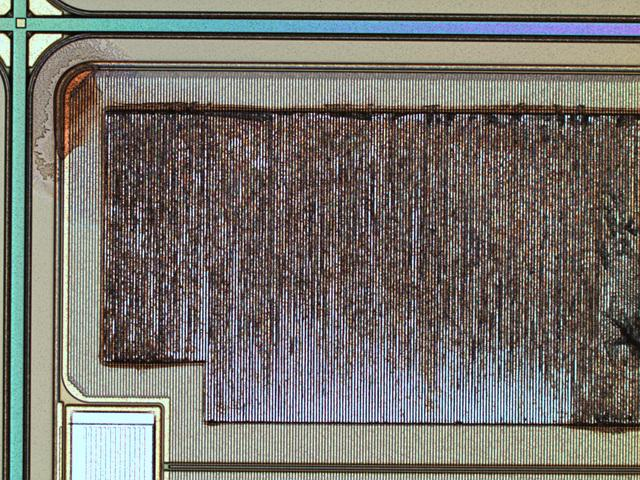SEZ BURNT: (26, 31, 640, 439)
